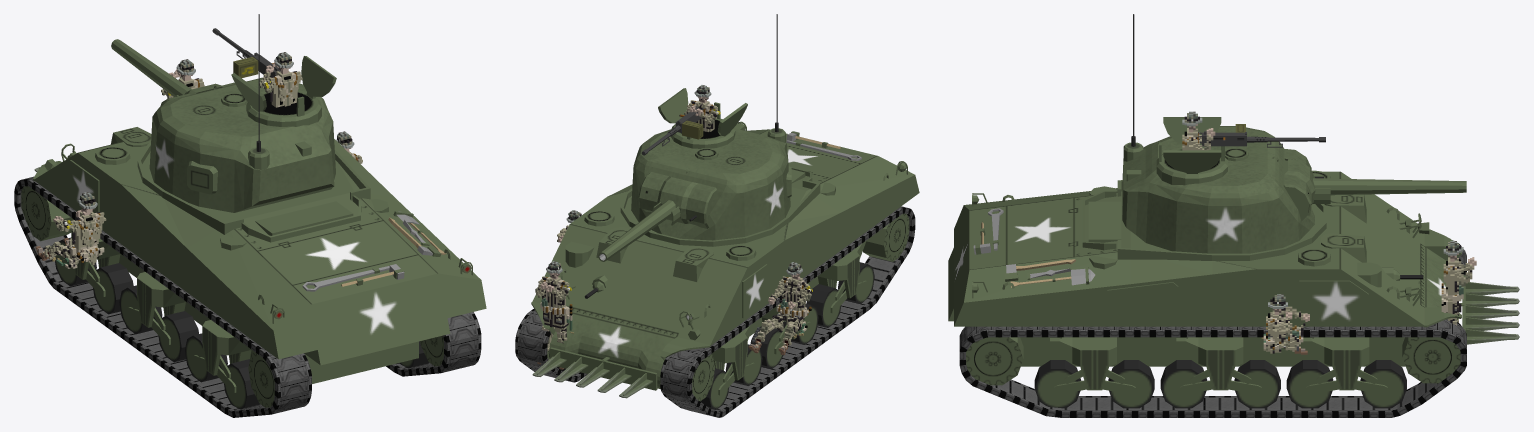
File: m4_rhino.glb
The picture shows the model from 3 angles, left to right: view 1: azimuth 30°, elevation 25°; view 2: azimuth 150°, elevation 25°; view 3: azimuth 270°, elevation 25°; orthographic projection. The views are drawn at different scales.
Parts seen in each view (by area): view 1: 00_chassis_m4_rhino_chassis.mesh, 03_turret_m4_75_turret.mesh, 08_track_m4_75_track.mesh, 04_turret_m4_75_cupola.mesh, 07_track_m4_75_track.mesh, crew_soldier_SLOT_00_DRIVER, crew_soldier_SLOT_02_GUNNER, weapon_turret_0_m4_75_cannon.mesh, weapon_turret_1_m4_75_cupola_mg.mesh, crew_soldier_SLOT_03_GUNNER; view 2: 00_chassis_m4_rhino_chassis.mesh, 03_turret_m4_75_turret.mesh, 08_track_m4_75_track.mesh, crew_soldier_SLOT_00_DRIVER, 04_turret_m4_75_cupola.mesh, crew_soldier_SLOT_03_GUNNER, 07_track_m4_75_track.mesh, weapon_turret_0_m4_75_cannon.mesh, crew_soldier_SLOT_02_GUNNER, weapon_turret_1_m4_75_cupola_mg.mesh; view 3: 00_chassis_m4_rhino_chassis.mesh, 07_track_m4_75_track.mesh, 03_turret_m4_75_turret.mesh, 04_turret_m4_75_cupola.mesh, weapon_turret_0_m4_75_cannon.mesh, crew_soldier_SLOT_01_GUNNER, crew_soldier_SLOT_03_GUNNER, weapon_turret_1_m4_75_cupola_mg.mesh, crew_soldier_SLOT_02_GUNNER.
Part boxes in pixels (box(x1,y1,x2,y2)): 00_chassis_m4_rhino_chassis.mesh: box(33, 127, 486, 409); 03_turret_m4_75_turret.mesh: box(149, 14, 335, 212); 08_track_m4_75_track.mesh: box(14, 176, 311, 417); 04_turret_m4_75_cupola.mesh: box(231, 56, 336, 126); 07_track_m4_75_track.mesh: box(386, 312, 481, 376); crew_soldier_SLOT_00_DRIVER: box(35, 192, 106, 268); crew_soldier_SLOT_02_GUNNER: box(259, 52, 302, 107); weapon_turret_0_m4_75_cannon.mesh: box(111, 39, 191, 96); weapon_turret_1_m4_75_cupola_mg.mesh: box(212, 28, 280, 78); crew_soldier_SLOT_03_GUNNER: box(161, 59, 204, 98); 00_chassis_m4_rhino_chassis.mesh: box(531, 121, 919, 409); 03_turret_m4_75_turret.mesh: box(631, 14, 791, 240); 08_track_m4_75_track.mesh: box(660, 206, 915, 417); crew_soldier_SLOT_00_DRIVER: box(748, 262, 812, 354); 04_turret_m4_75_cupola.mesh: box(658, 88, 747, 148); crew_soldier_SLOT_03_GUNNER: box(535, 261, 573, 369); 07_track_m4_75_track.mesh: box(515, 309, 587, 382); weapon_turret_0_m4_75_cannon.mesh: box(598, 200, 675, 261); crew_soldier_SLOT_02_GUNNER: box(684, 85, 720, 131); weapon_turret_1_m4_75_cupola_mg.mesh: box(641, 106, 705, 155); 00_chassis_m4_rhino_chassis.mesh: box(948, 170, 1519, 408); 07_track_m4_75_track.mesh: box(959, 319, 1466, 417); 03_turret_m4_75_turret.mesh: box(1122, 14, 1330, 253); 04_turret_m4_75_cupola.mesh: box(1156, 117, 1227, 185); weapon_turret_0_m4_75_cannon.mesh: box(1313, 178, 1466, 195); crew_soldier_SLOT_01_GUNNER: box(1261, 294, 1309, 354); crew_soldier_SLOT_03_GUNNER: box(1441, 241, 1476, 325); weapon_turret_1_m4_75_cupola_mg.mesh: box(1197, 124, 1325, 147); crew_soldier_SLOT_02_GUNNER: box(1182, 111, 1215, 150).
Size of the model in its own units: 4.69 by 5.37 by 8.13.
39 materials, 3 textured.
